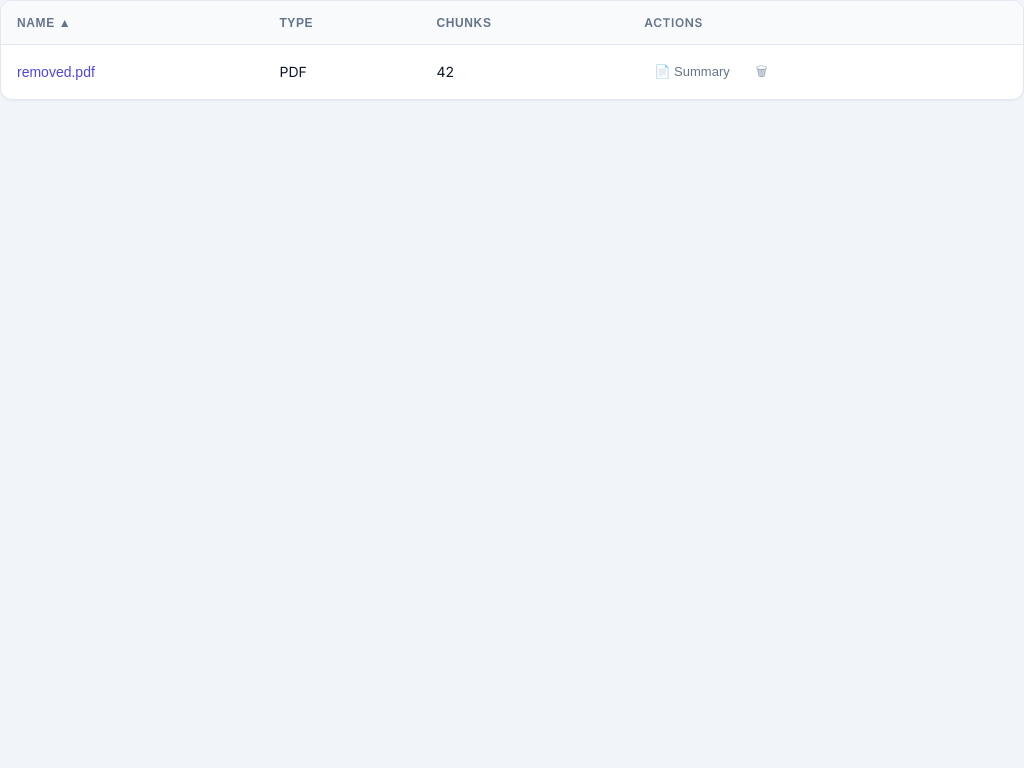
Scenario: DocumentTable — delete flow › shows success message after deletion
Click the button named "delete removed.pdf" at (762, 72), box [746,57,777,87]
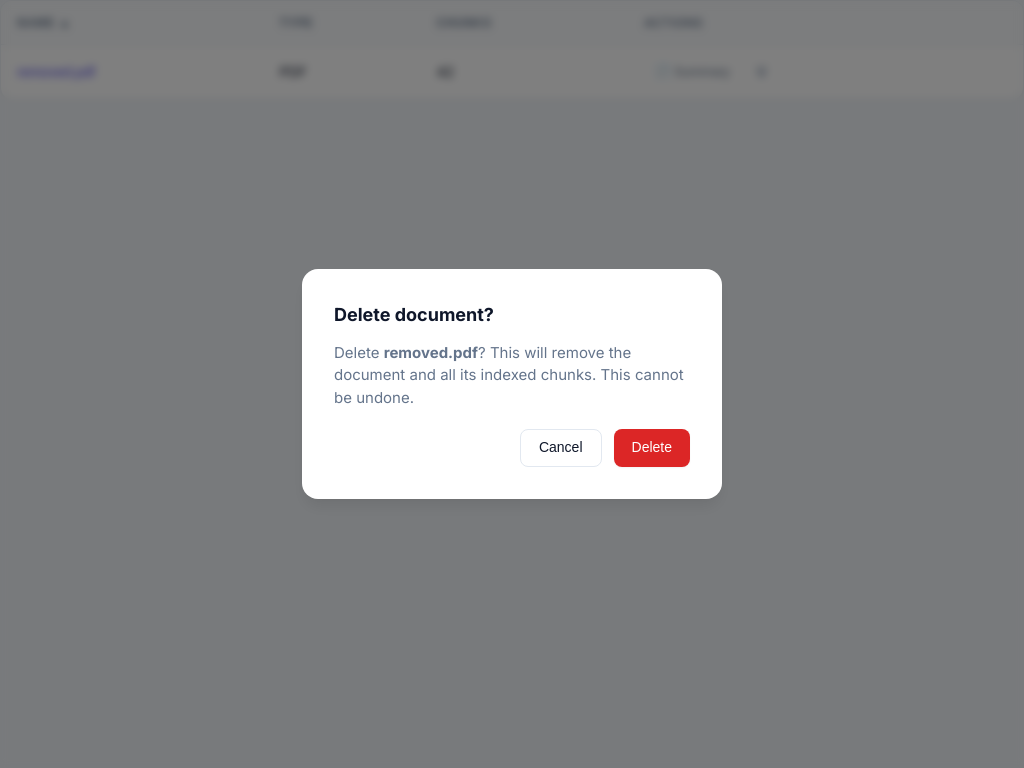
Click the button "Delete" at (652, 448), box [614,429,690,467]
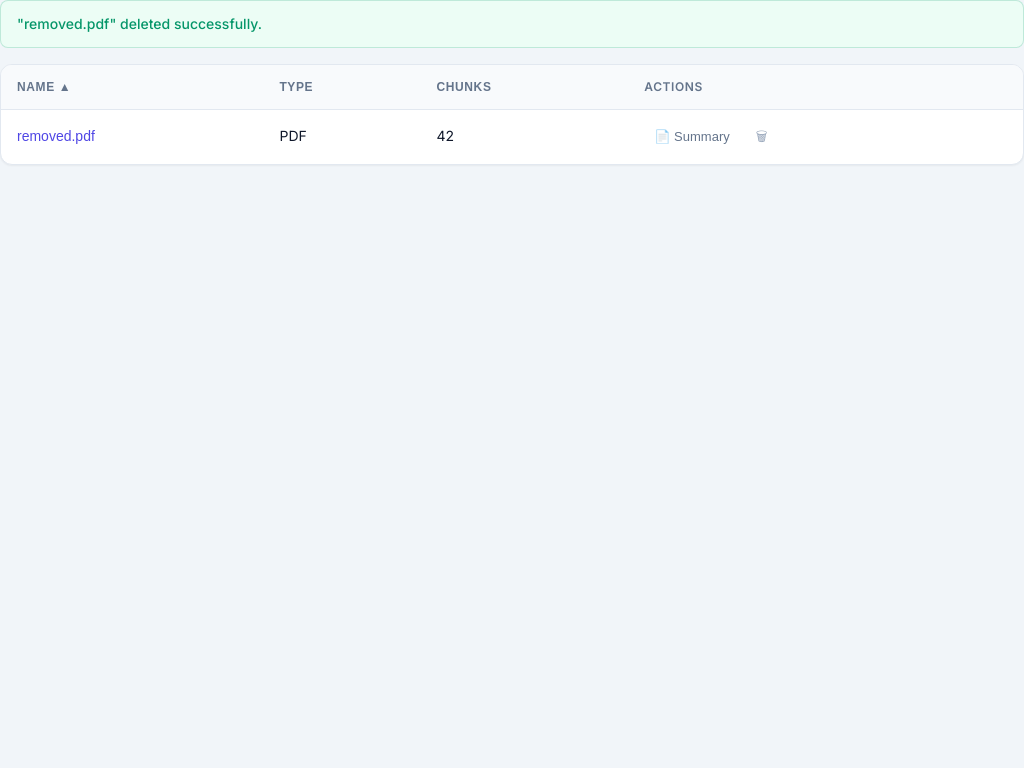
Result: the message reads "\"removed.pdf\" deleted successfully." at [17,15,262,32]
